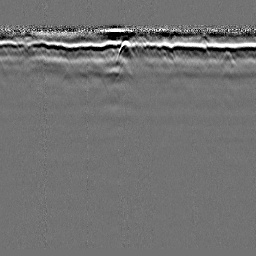cavity: (115, 40, 137, 62)
